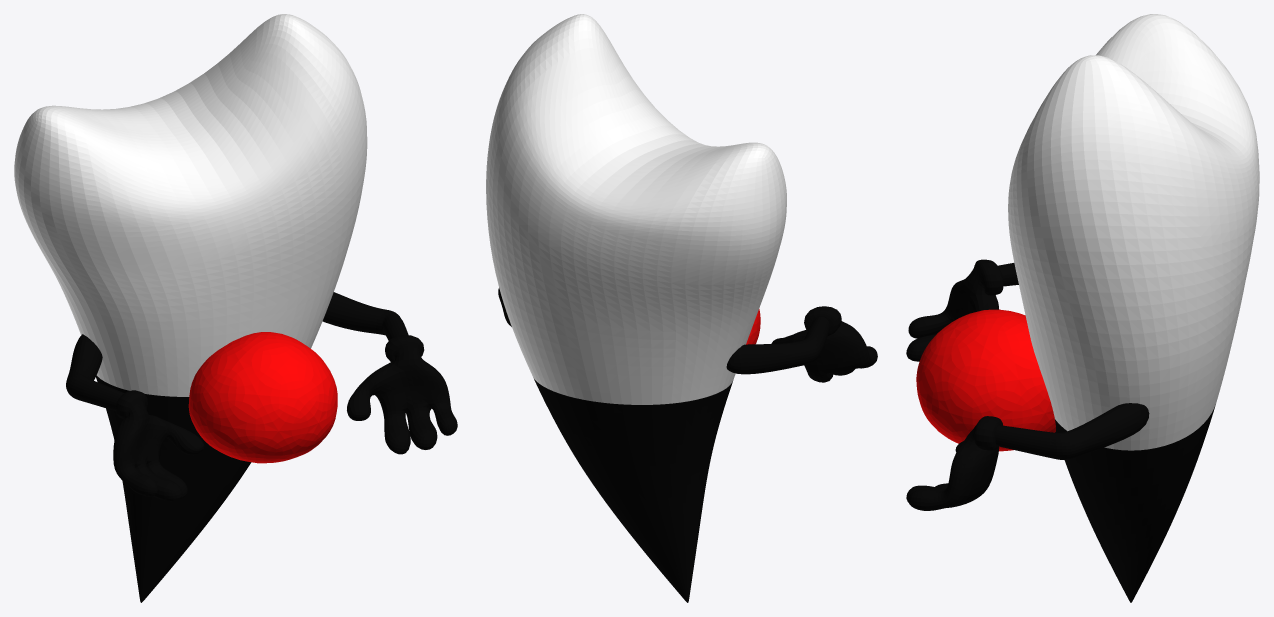
The model's file is java-dukezombie010.obj.
3 renders of one model, left to right at view 1: azimuth 30°, elevation 25°; view 2: azimuth 150°, elevation 25°; view 3: azimuth 270°, elevation 25°, orthographic. The views are drawn at different scales.
Visible parts, largest first — view 1: javadude, javadude_hands, javadude_nase; view 2: javadude, javadude_hands; view 3: javadude, javadude_nase, javadude_hands.
Part boxes in pixels (left/top/right/bottom): javadude: left=14, top=14, right=367, bottom=602; javadude_hands: left=66, top=292, right=457, bottom=501; javadude_nase: left=188, top=332, right=337, bottom=463; javadude: left=486, top=14, right=786, bottom=602; javadude_hands: left=498, top=288, right=877, bottom=382; javadude: left=1008, top=14, right=1259, bottom=602; javadude_nase: left=916, top=309, right=1055, bottom=451; javadude_hands: left=906, top=259, right=1149, bottom=510.
Size of the model in its own units: 2.58 by 4.2 by 2.19.
